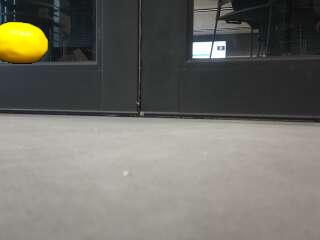Lemon: (0, 21, 50, 65)
